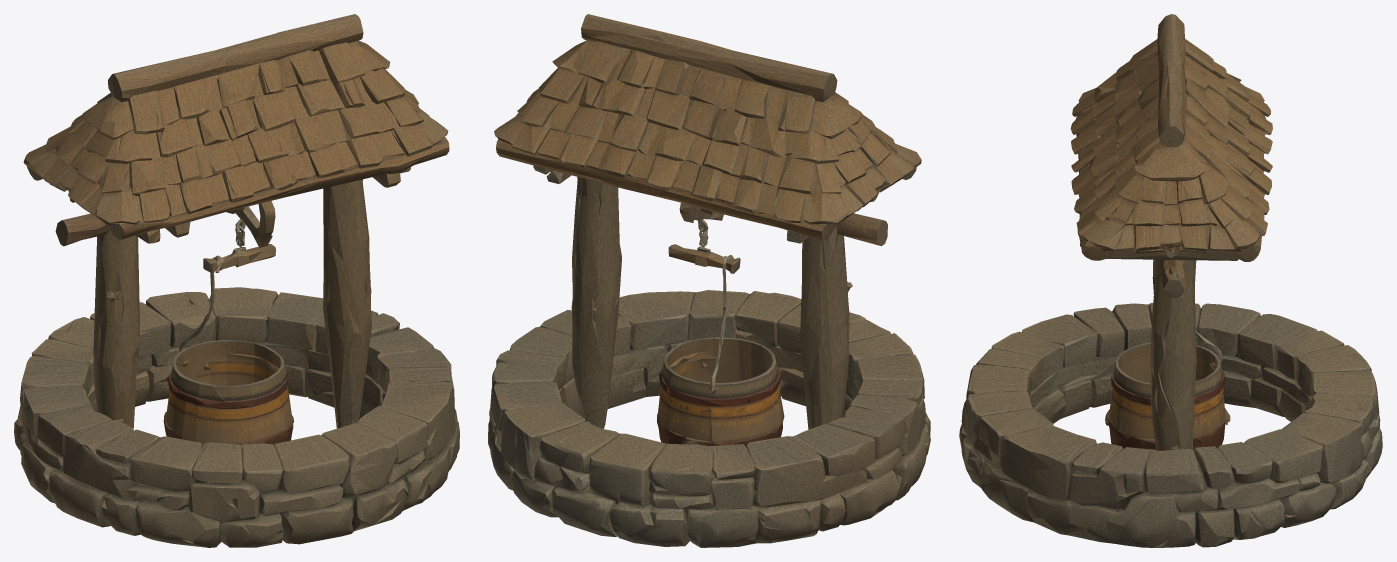
Rendered from well.glb.
3 renders of one model, left to right at view 1: azimuth 30°, elevation 25°; view 2: azimuth 150°, elevation 25°; view 3: azimuth 270°, elevation 25°, orthographic. The views are drawn at different scales.
Visible parts, largest first — view 1: Mesh_0; view 2: Mesh_0; view 3: Mesh_0.
Boxes of the visible parts, bbox=[...] form: Mesh_0: bbox=[14, 14, 459, 547]; Mesh_0: bbox=[488, 14, 930, 547]; Mesh_0: bbox=[959, 14, 1382, 547].
Bounding box in the file's own units: 1.79 × 1.84 × 1.8.
1 material, 1 textured.
